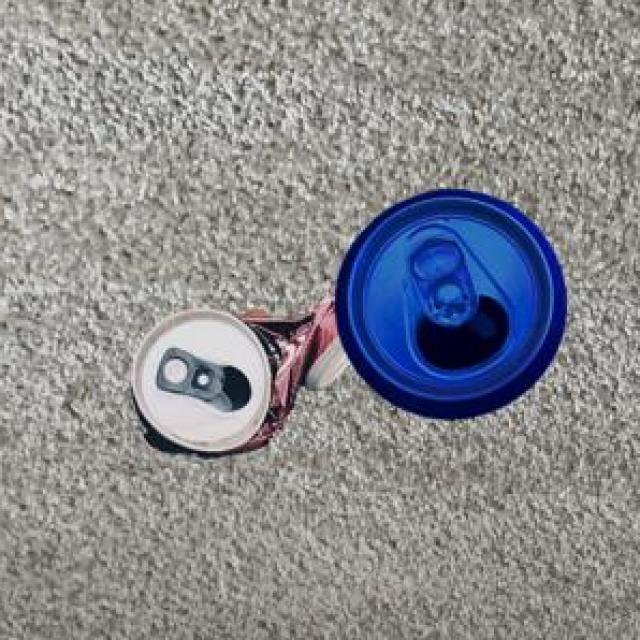logam: (338, 192, 570, 422), (136, 287, 355, 461)
